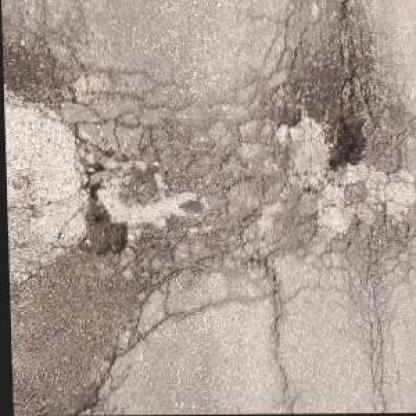pothole: (322, 114, 369, 172), (73, 212, 129, 258)
